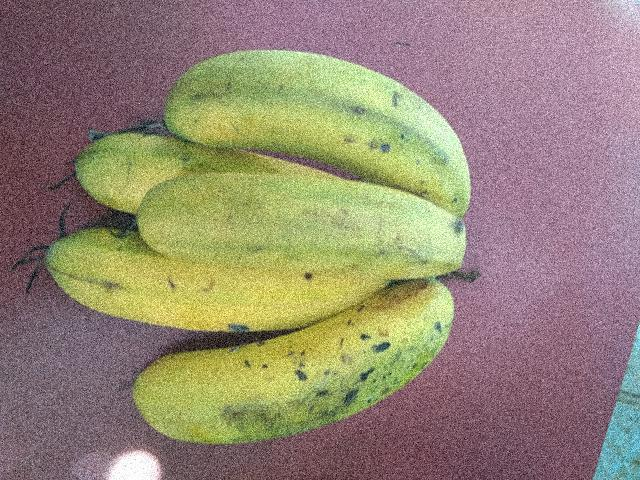ripe: (136, 152, 491, 302), (136, 289, 445, 458), (157, 35, 471, 190), (36, 227, 331, 354), (39, 122, 191, 194)
